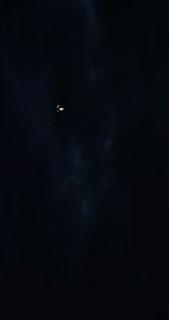Plane: (52, 98, 69, 118)
